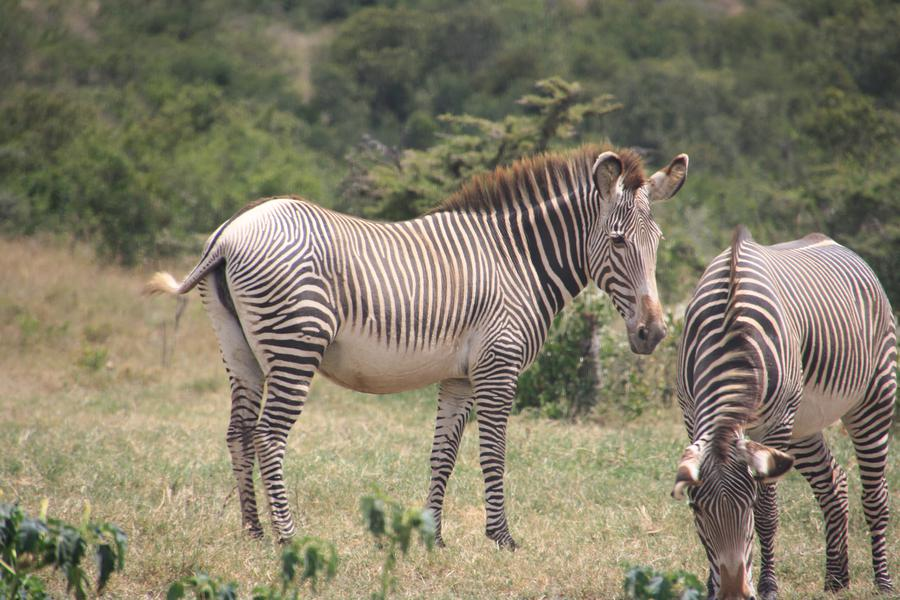zebra_grevys: (215, 212, 537, 359)
